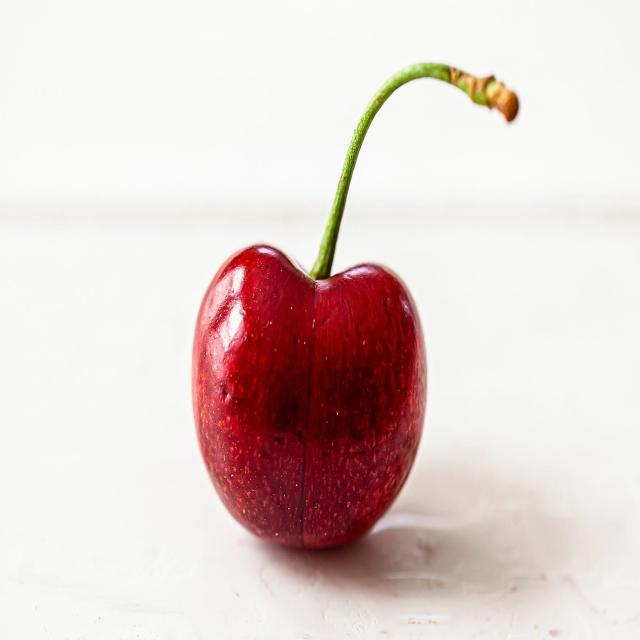cherry: (188, 55, 522, 556)
